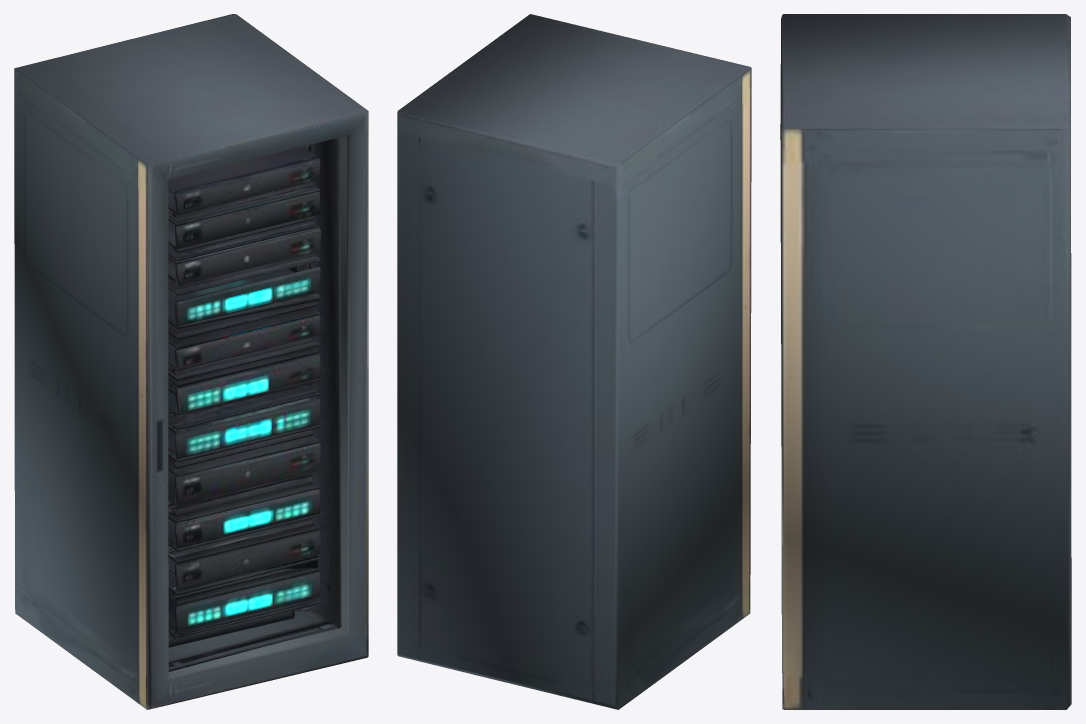
The model's file is server-rack.glb.
3 renders of one model, left to right at view 1: azimuth 30°, elevation 25°; view 2: azimuth 150°, elevation 25°; view 3: azimuth 270°, elevation 25°, orthographic. The views are drawn at different scales.
Size of the model in its own units: 0.8496 by 2 by 0.9082.
1 material, 1 textured.
